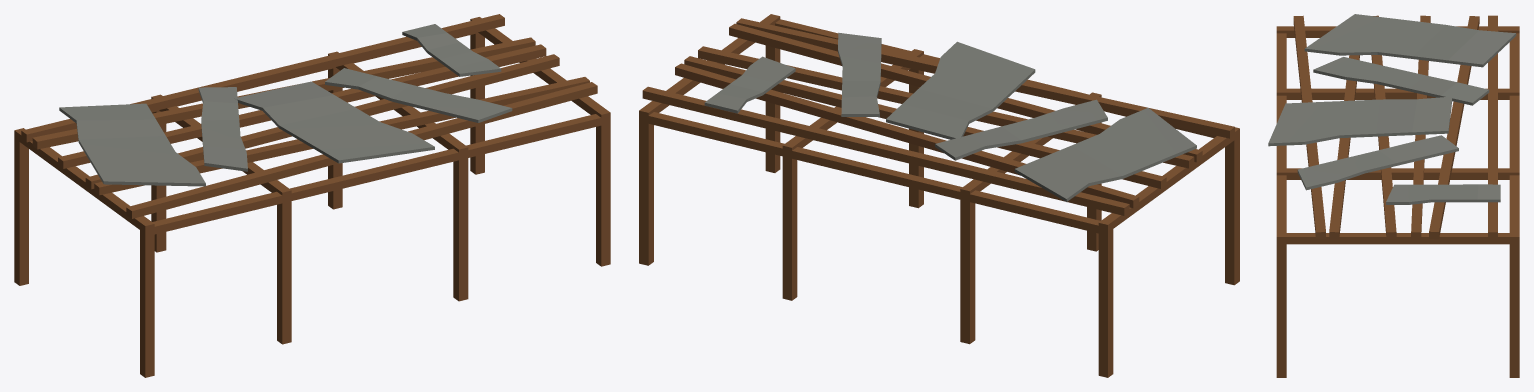
Rendered from SM_WoodenConstruction_01.fbx.
3 views of the same model, side by side, from view 1: azimuth 30°, elevation 25°; view 2: azimuth 150°, elevation 25°; view 3: azimuth 270°, elevation 25° (orthographic). The views are drawn at different scales.
Visible parts, largest first — view 1: SM_WoodenConstruction_01; view 2: SM_WoodenConstruction_01; view 3: SM_WoodenConstruction_01.
Boxes of the visible parts, bbox=[...] form: SM_WoodenConstruction_01: bbox=[14, 14, 610, 377]; SM_WoodenConstruction_01: bbox=[639, 14, 1239, 377]; SM_WoodenConstruction_01: bbox=[1268, 14, 1519, 377].
Bounding box in the file's own units: 1292 × 433 × 634.
